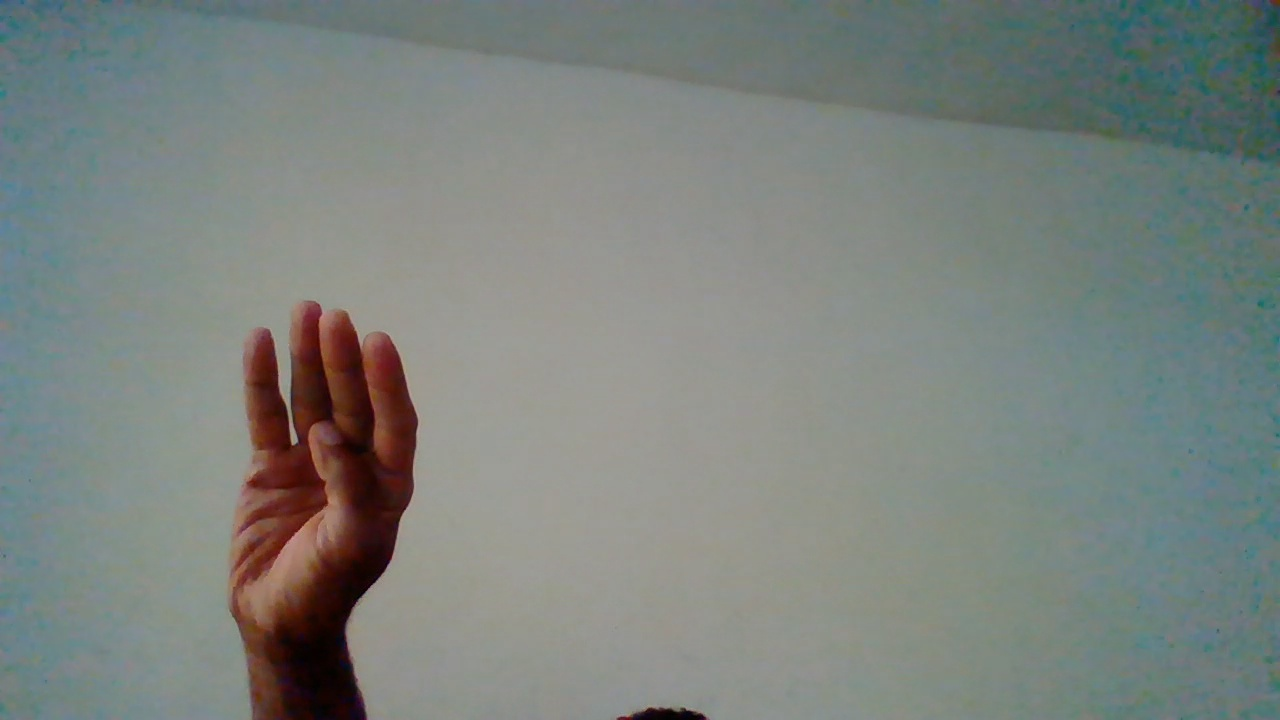me: (222, 296, 422, 720)
